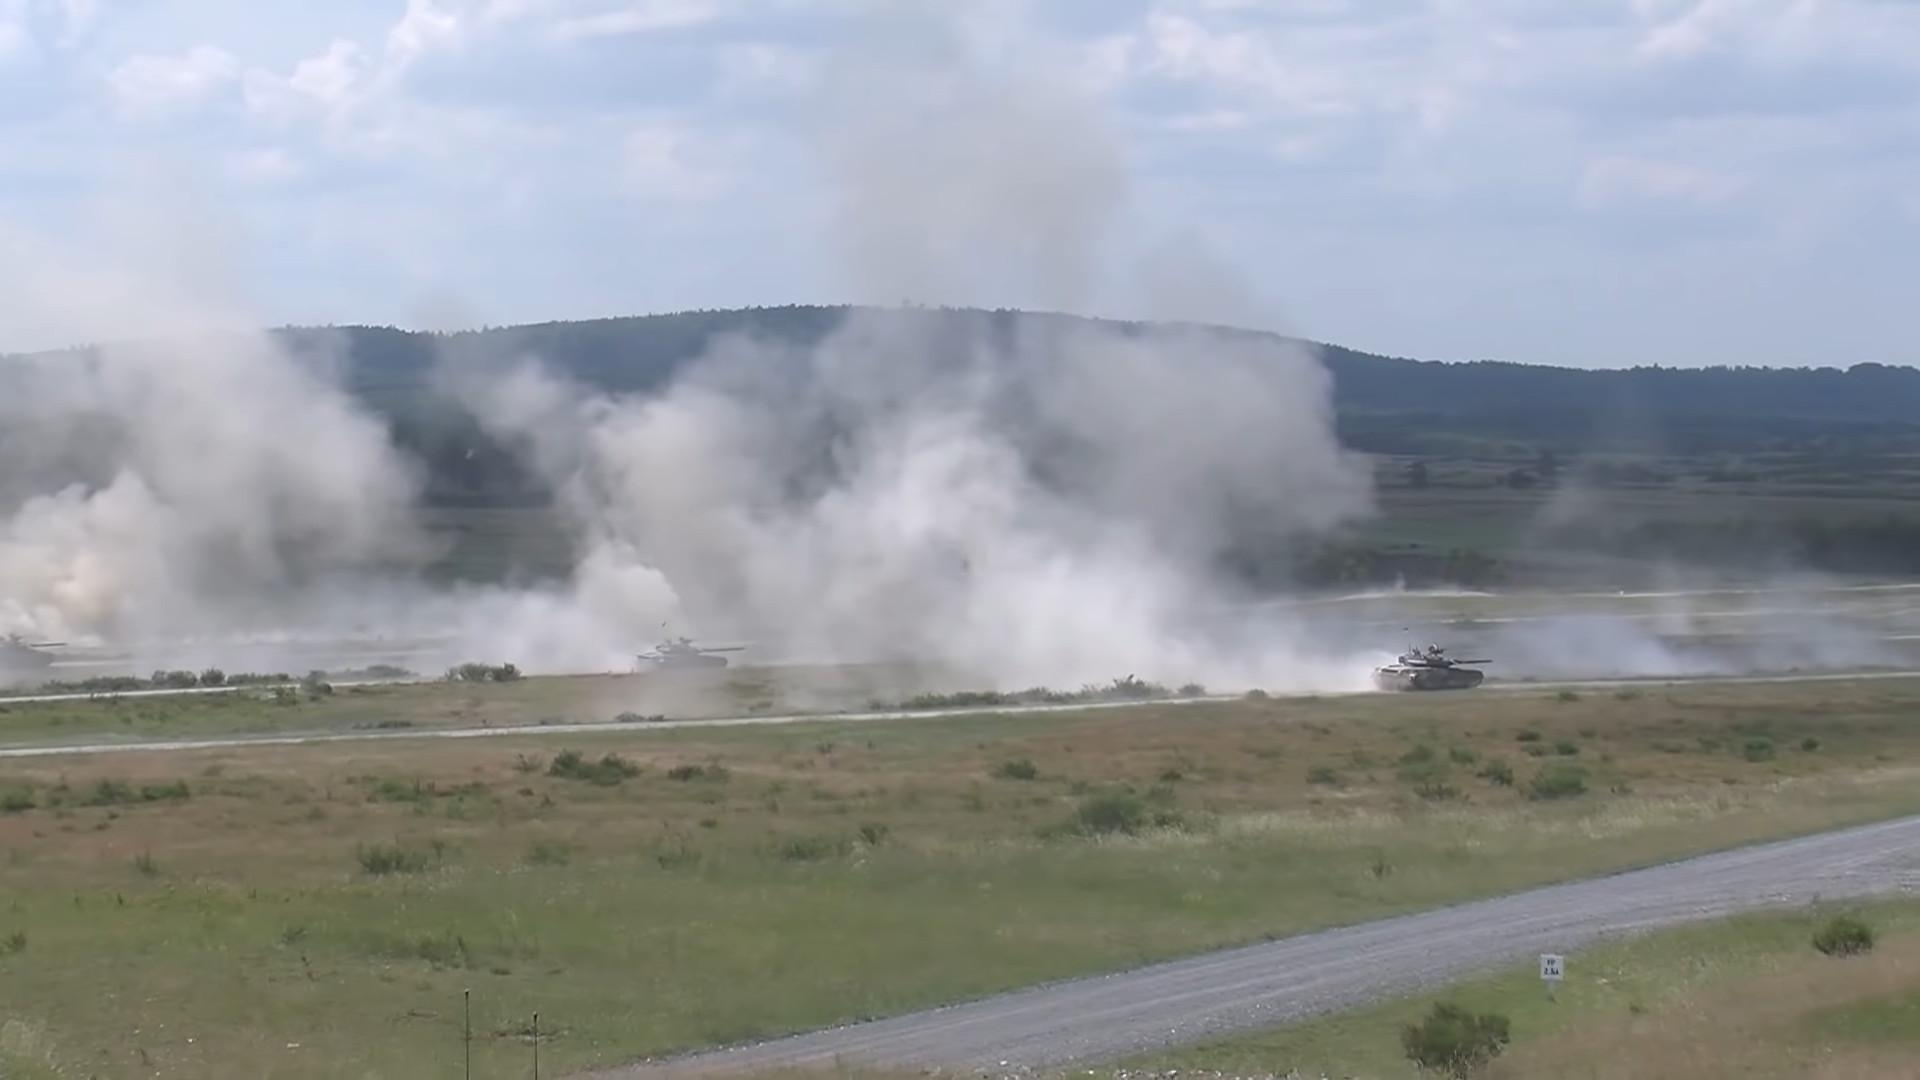tank: (1371, 644, 1493, 690), (638, 641, 744, 669), (3, 637, 65, 666)
